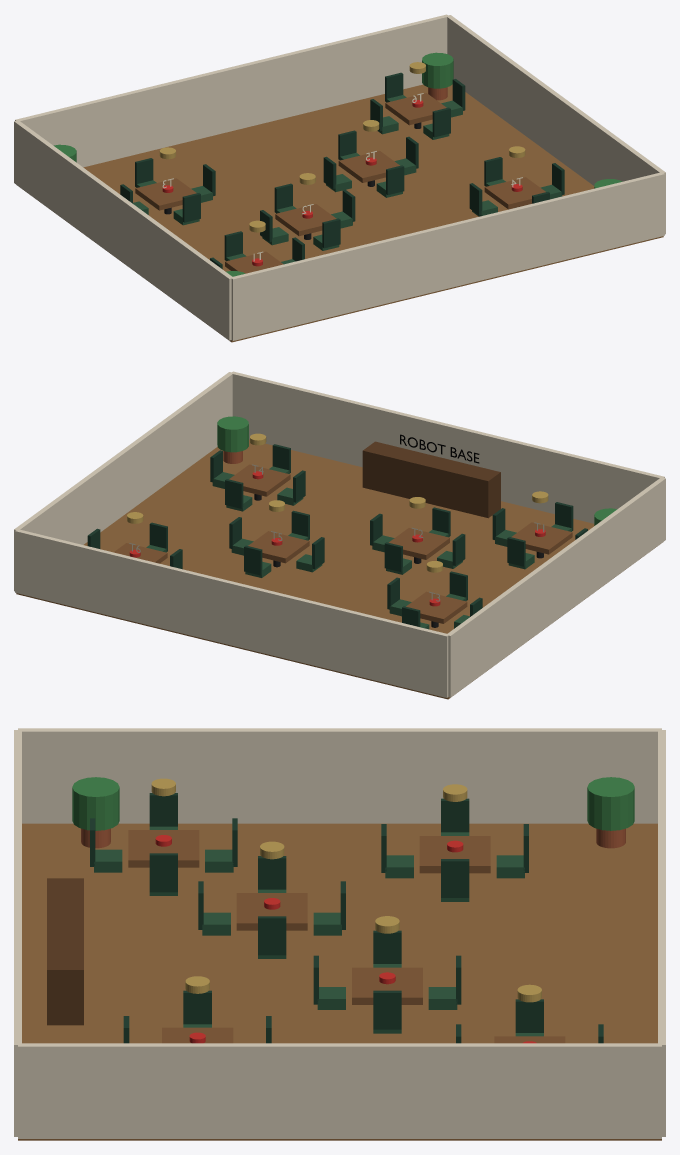
Rendered from ambiente.obj.
3 views of the same model, one above another, from view 1: azimuth 30°, elevation 25°; view 2: azimuth 150°, elevation 25°; view 3: azimuth 270°, elevation 25° (orthographic). The views are drawn at different scales.
Visible parts, largest first — view 1: Restaurant_Floor, Front_Wall, Back_Wall, Left_Wall, Right_Wall, Table_3, Table_5, Table_4, Table_6, Table_2, Corner_Plant_2_Leaves, Table_1 (+4 smaller); view 2: Restaurant_Floor, Back_Wall, Front_Wall, Left_Wall, Right_Wall, Robot_Base_Service_Counter, Table_5, Table_1, Table_2, Table_4, Table_3, Corner_Plant_4_Leaves (+5 smaller); view 3: Restaurant_Floor, Right_Wall, Left_Wall, Robot_Base_Service_Counter, Back_Wall, Front_Wall, Corner_Plant_1_Leaves, Corner_Plant_3_Leaves, Table_2, Table_1, Table_5, Table_3 (+19 smaller).
Boxes of the visible parts, <box> form: Restaurant_Floor: <box>22,84,663,342</box>; Front_Wall: <box>231,172,664,340</box>; Back_Wall: <box>15,14,449,167</box>; Left_Wall: <box>14,121,233,340</box>; Right_Wall: <box>447,15,665,234</box>; Table_3: <box>135,178,196,210</box>; Table_5: <box>338,151,399,182</box>; Table_4: <box>484,177,545,209</box>; Table_6: <box>385,93,446,125</box>; Table_2: <box>275,204,336,236</box>; Corner_Plant_2_Leaves: <box>422,52,453,88</box>; Table_1: <box>225,251,283,273</box>; Restaurant_Floor: <box>16,439,657,699</box>; Back_Wall: <box>15,529,448,697</box>; Front_Wall: <box>231,371,664,523</box>; Left_Wall: <box>446,478,665,697</box>; Right_Wall: <box>14,372,232,591</box>; Robot_Base_Service_Counter: <box>362,441,500,518</box>; Table_5: <box>248,531,309,563</box>; Table_1: <box>511,522,572,554</box>; Table_2: <box>389,528,449,559</box>; Table_4: <box>229,464,290,496</box>; Table_3: <box>406,591,467,623</box>; Corner_Plant_4_Leaves: <box>217,416,248,452</box>; Restaurant_Floor: <box>18,823,661,1140</box>; Right_Wall: <box>18,1043,661,1138</box>; Left_Wall: <box>18,728,661,823</box>; Robot_Base_Service_Counter: <box>47,878,83,1025</box>; Back_Wall: <box>658,730,665,1136</box>; Front_Wall: <box>14,730,21,1136</box>; Corner_Plant_1_Leaves: <box>587,777,634,830</box>; Corner_Plant_3_Leaves: <box>72,777,119,830</box>; Table_2: <box>236,893,307,930</box>; Table_1: <box>128,830,199,867</box>; Table_5: <box>352,967,422,1004</box>; Table_3: <box>419,836,490,873</box>.
Size of the model in its own units: 1.33 by 0.1884 by 1.15.
